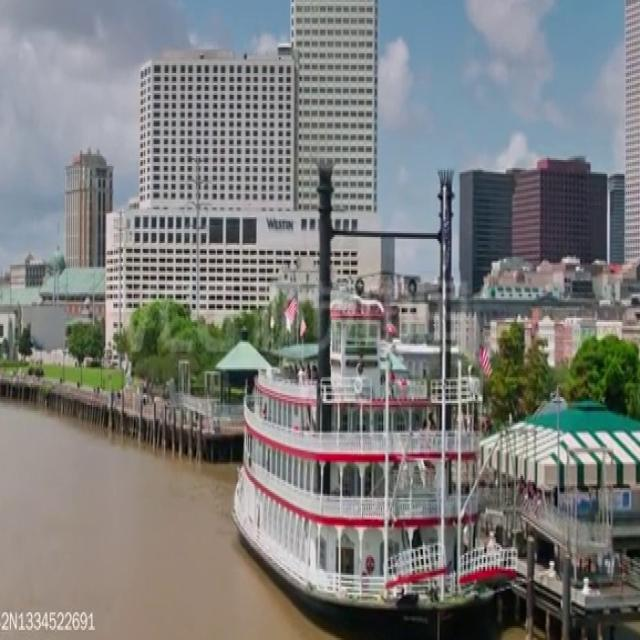passenger ship: (231, 330, 506, 630)
